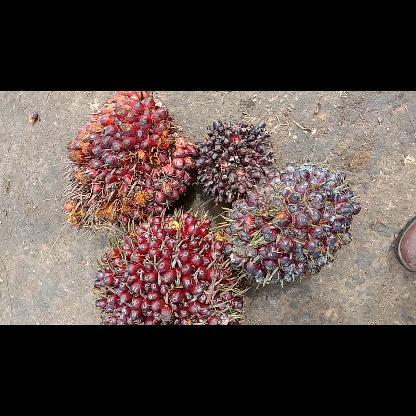Kurang masak: (220, 160, 364, 288), (90, 210, 244, 324)
TBS abnormal: (195, 116, 277, 206)
TBS masak: (64, 91, 196, 230)
